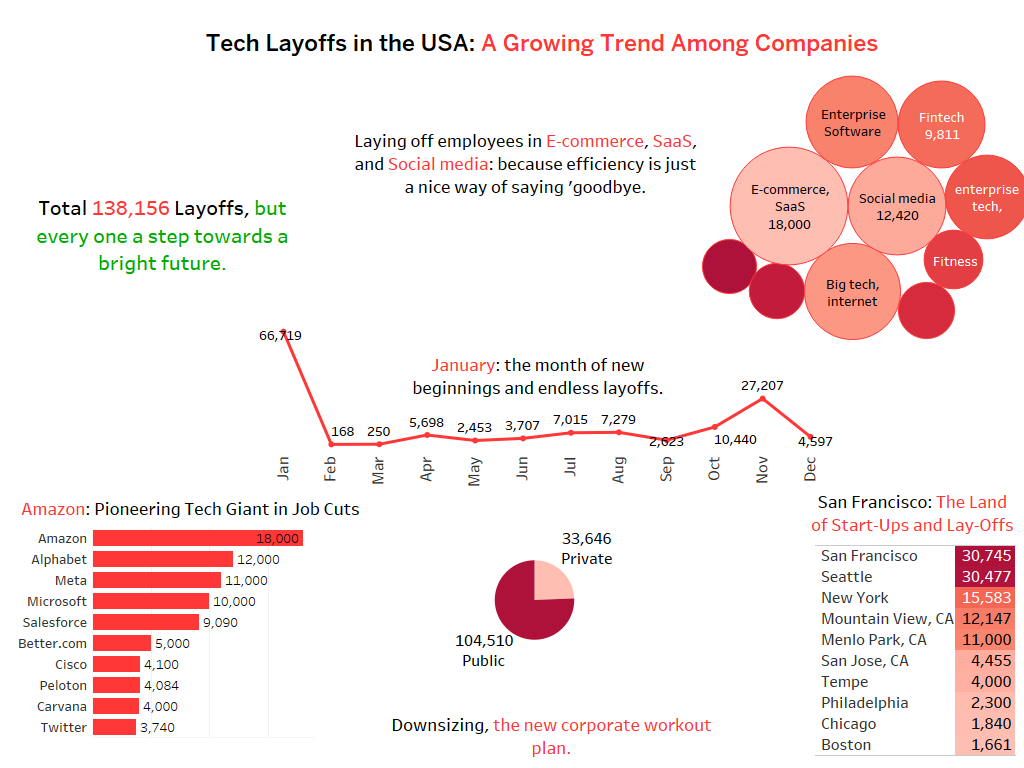

What the dashboard file says about the page in this screenshot:
{"tool":"tableau","page":{"name":"Dashboard","canvas":[1024,768],"ordinal":0},"visuals":[{"type":"dashboard-object","box":[0,0,1024,768]},{"type":"text","box":[176,18,732,50]},{"type":"worksheet","title":"Top 10 Industry Layoffs","mark":"Circle","box":[701,48,328,335]},{"type":"text","box":[351,112,349,104]},{"type":"text","box":[19,173,287,125]},{"type":"worksheet","title":"Layoffs by month","mark":"Automatic","rows":["total_layoffs"],"cols":["reported_date"],"box":[259,324,575,167]},{"type":"text","box":[396,348,284,56]},{"type":"text","box":[805,473,215,81]},{"type":"text","box":[9,483,363,51]},{"type":"worksheet","title":"Layoffs by Sector","mark":"Pie","box":[455,520,190,165]},{"type":"worksheet","title":"Top10 Layoffs Companies","mark":"Automatic","rows":["company"],"cols":["total_layoffs"],"box":[12,527,348,222]},{"type":"worksheet","title":"Layoffs by Headquarter Location","mark":"Square","rows":["headquarter_location"],"box":[815,545,201,212]},{"type":"text","box":[377,708,349,56]}]}

Visuals, with their boxes in screenshot pixels (x1, y1, x2, y2), scaled from the page's 1024x768 canvas onto the 1024x768 screenshot:
dashboard-object: left=0, top=0, right=1023, bottom=767
text: left=176, top=18, right=908, bottom=68
"Top 10 Industry Layoffs" worksheet (Circle marks): left=701, top=48, right=1023, bottom=383
text: left=351, top=112, right=700, bottom=216
text: left=19, top=173, right=306, bottom=298
"Layoffs by month" worksheet: left=259, top=324, right=834, bottom=491
text: left=396, top=348, right=680, bottom=404
text: left=805, top=473, right=1020, bottom=554
text: left=9, top=483, right=372, bottom=534
"Layoffs by Sector" worksheet (Pie marks): left=455, top=520, right=645, bottom=685
"Top10 Layoffs Companies" worksheet: left=12, top=527, right=360, bottom=749
"Layoffs by Headquarter Location" worksheet (Square marks): left=815, top=545, right=1016, bottom=757
text: left=377, top=708, right=726, bottom=764
